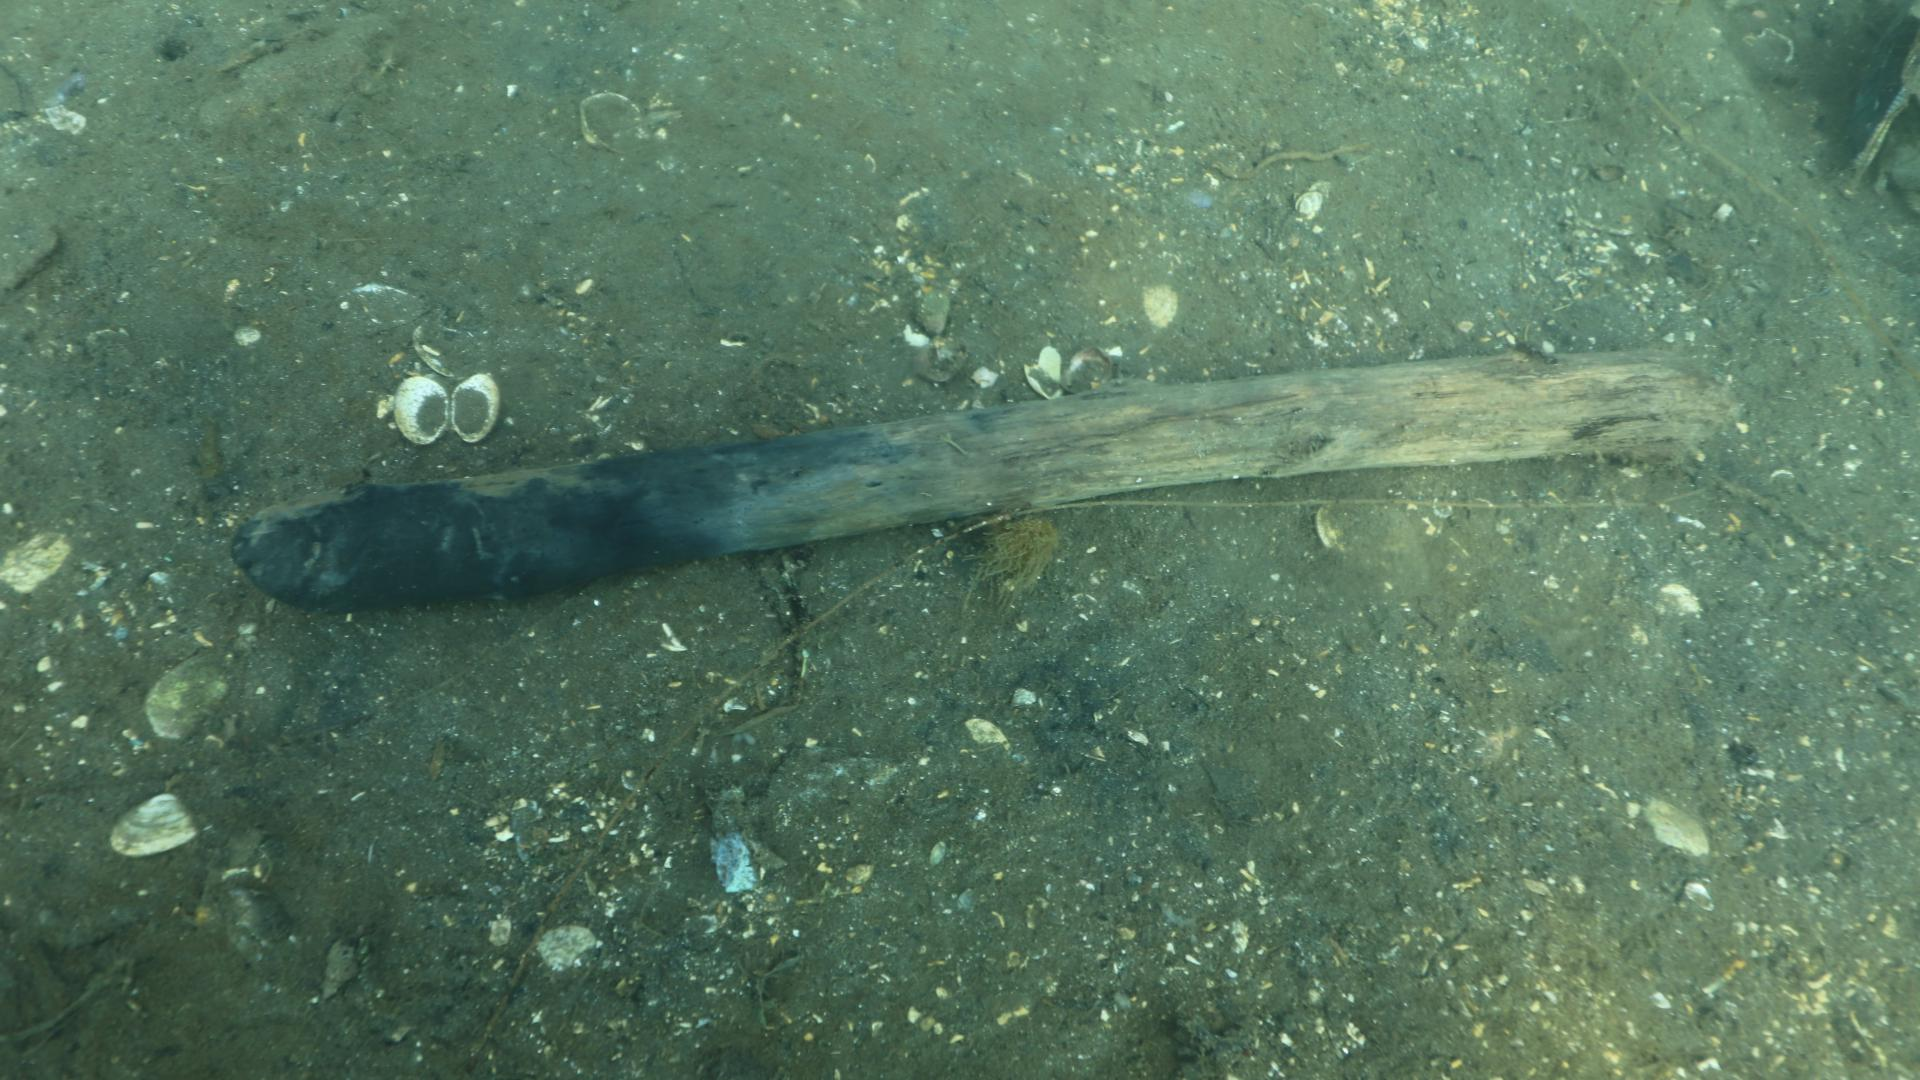wood: (227, 345, 1741, 611)
